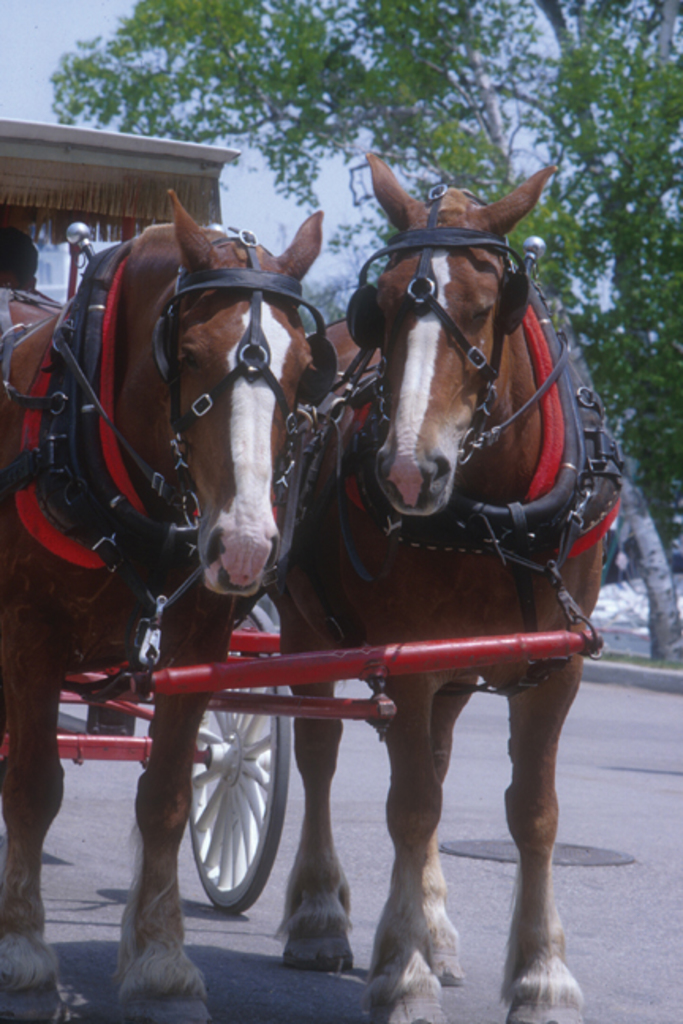Person: (0, 227, 37, 288)
